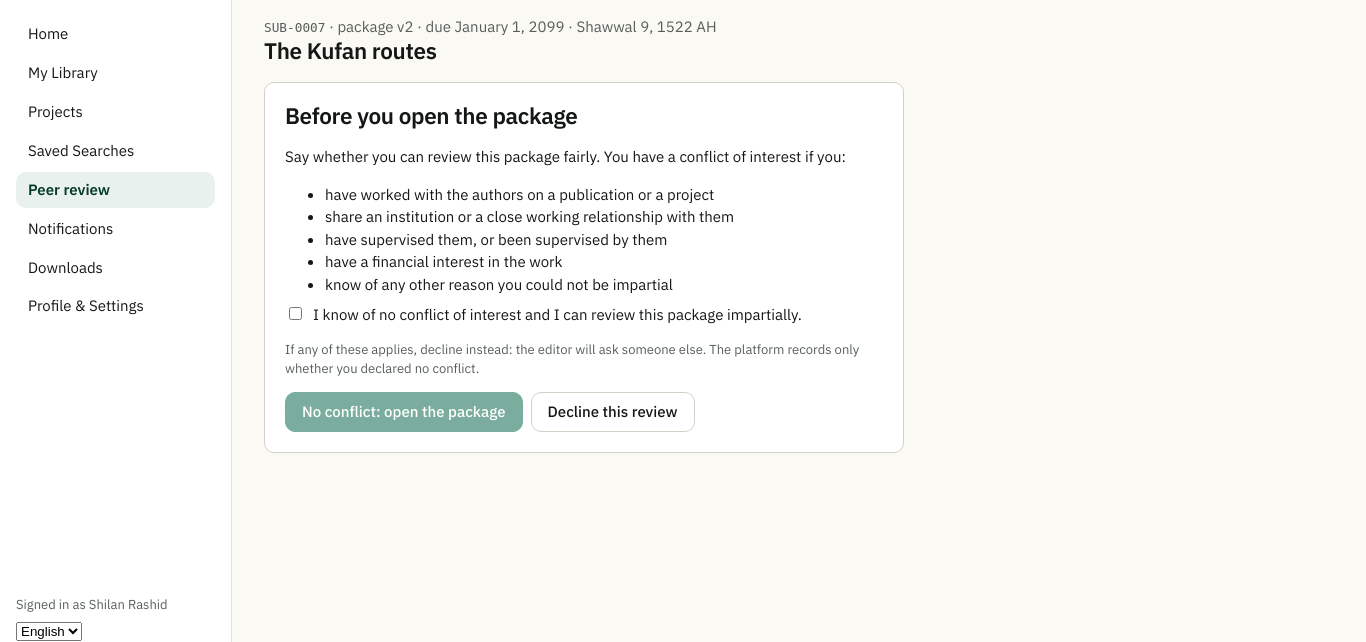
it: Peer review: the package › keeps what was written and says it was not sent when the server fails
Click the checkbox labelled "no conflict of interest": click(296, 314) [289,307,302,320]
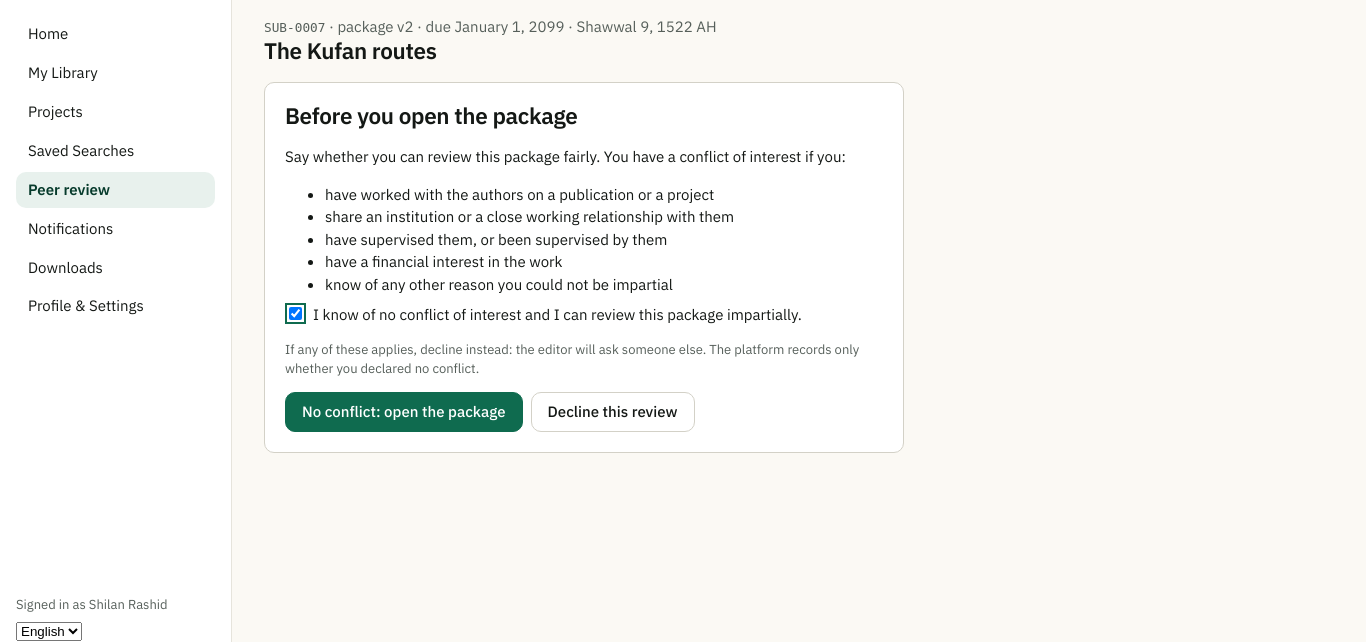
Click the button "No conflict: open the package": click(404, 412) [285,392,522,432]
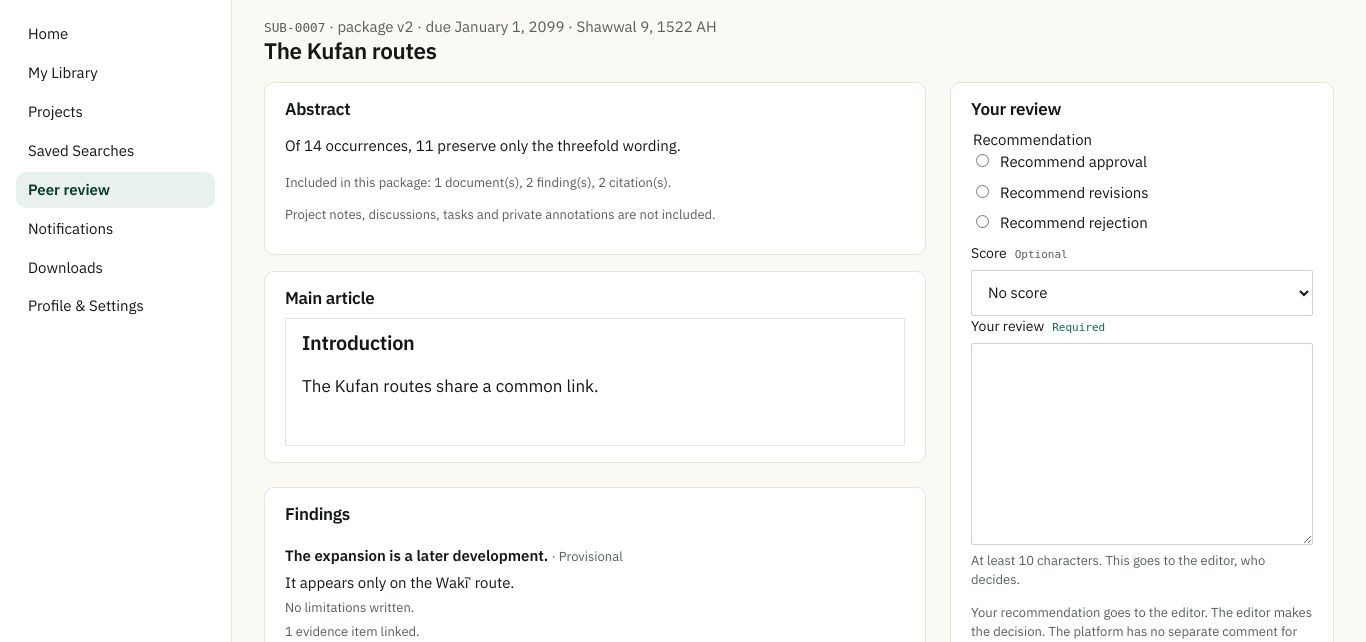
Click the radio button labelled "Recommend approval": click(982, 161) [976,154,989,167]
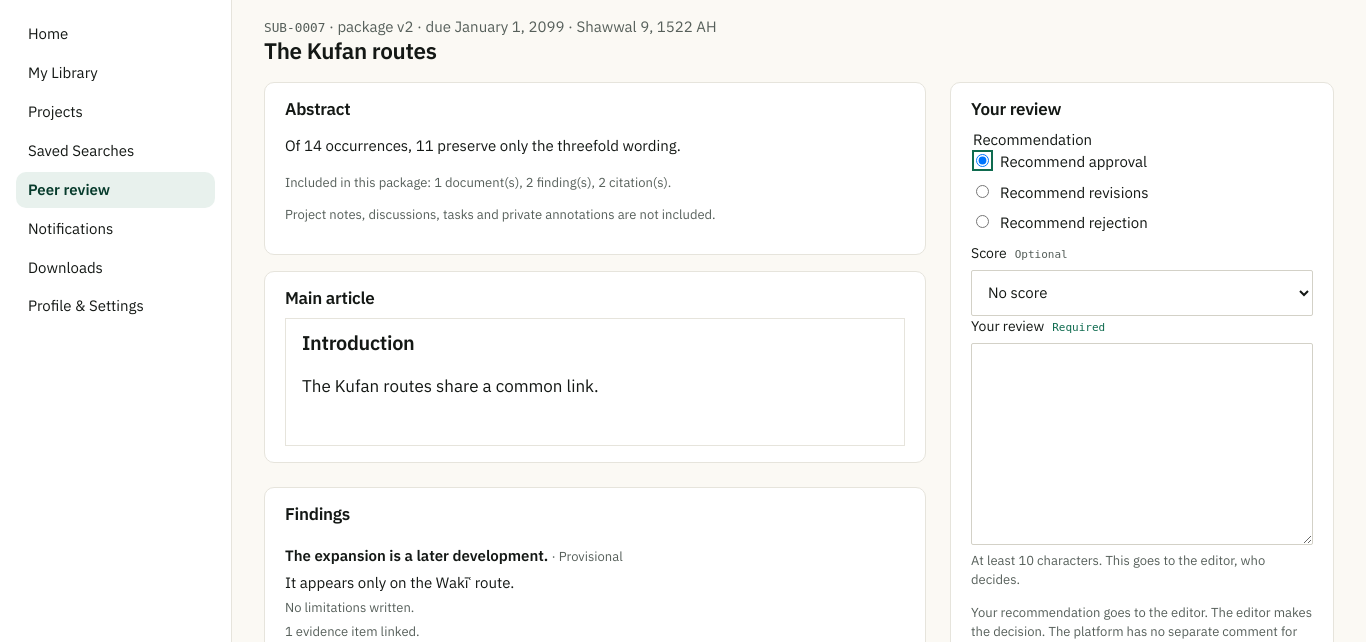
In the text box labelled "Your review": (1142, 444) [971,343,1313,545], type "Sound and clearly argued."
(page scrolled)
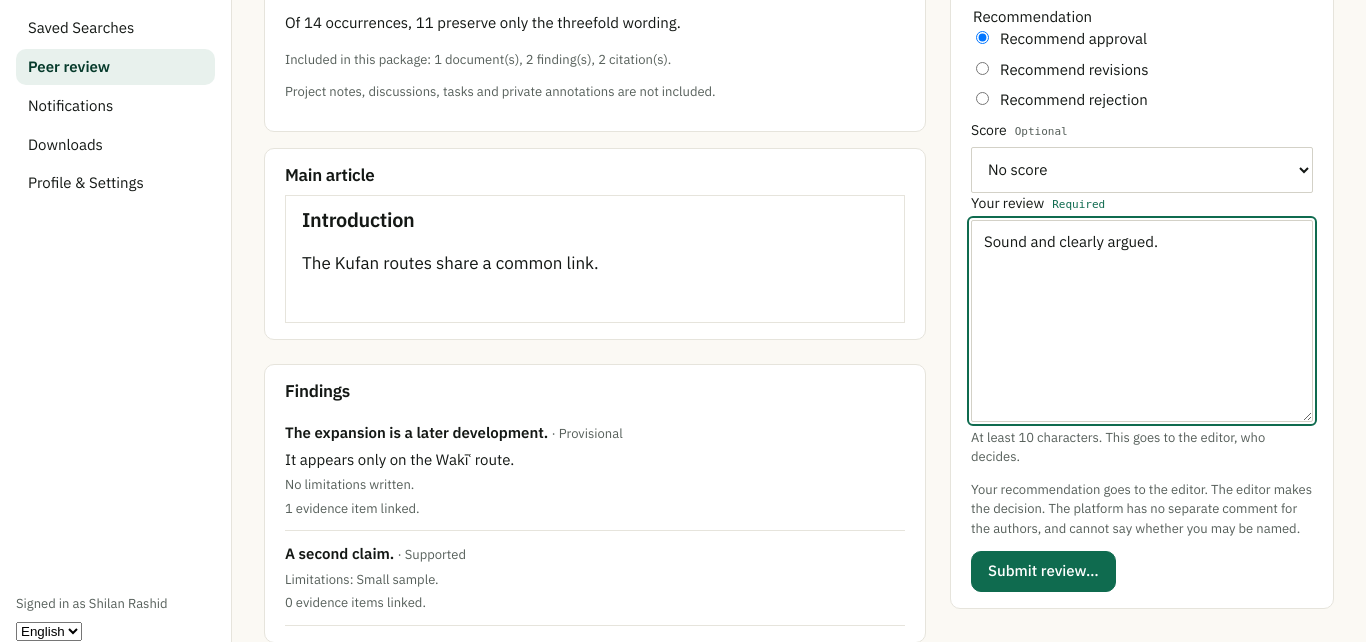
Click the button "Submit review…": click(1043, 572) [971,551,1116,592]
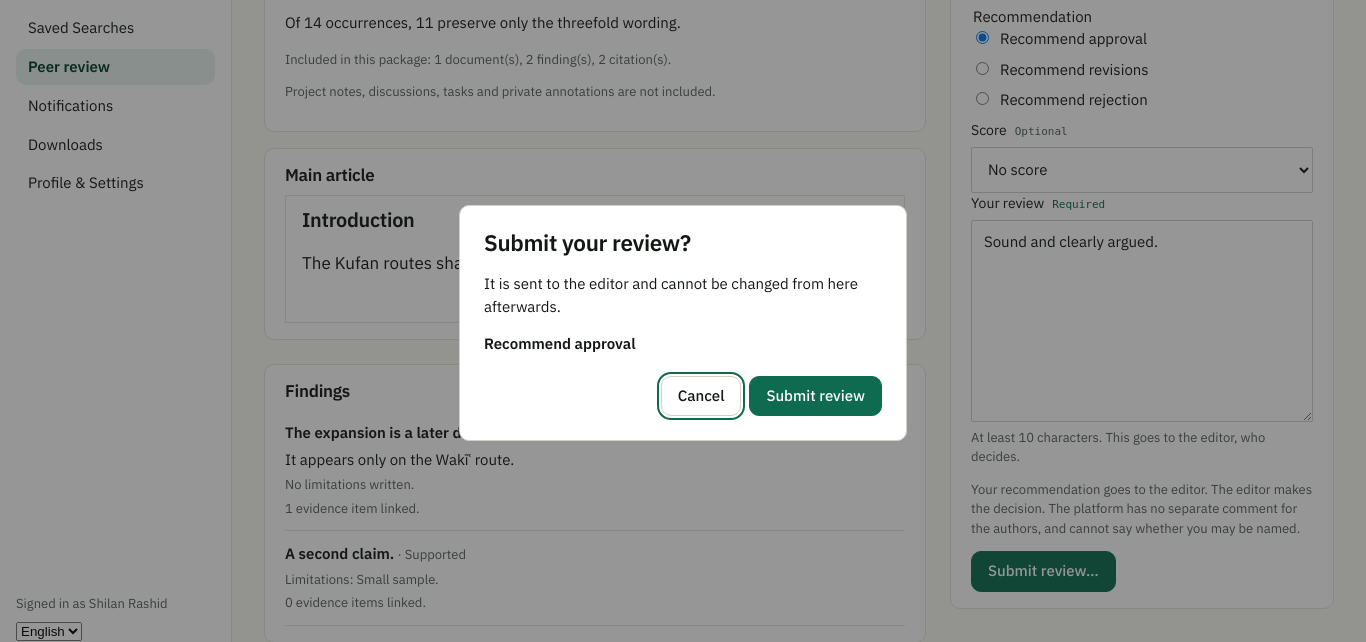
Click the button "Submit review": click(816, 396) [749,376,882,416]
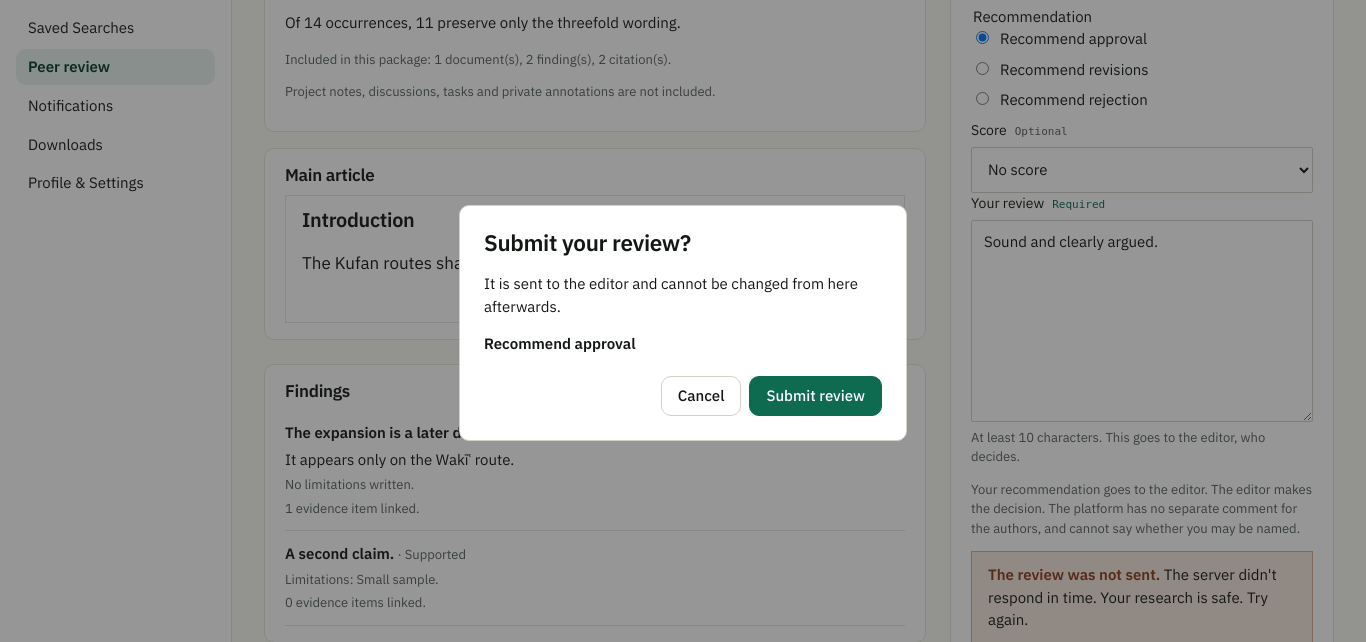
Now the text "The review was not sent." is shown, box [988,564,1164,586]
